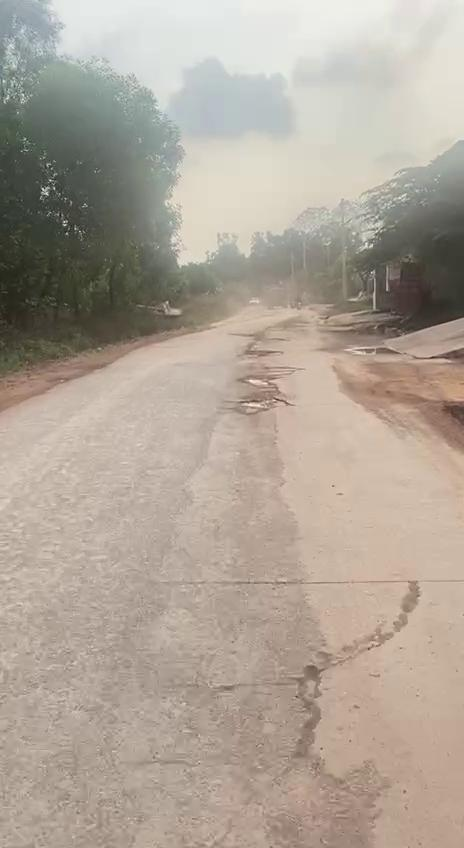pothole: (234, 394, 285, 417), (238, 370, 278, 392)
